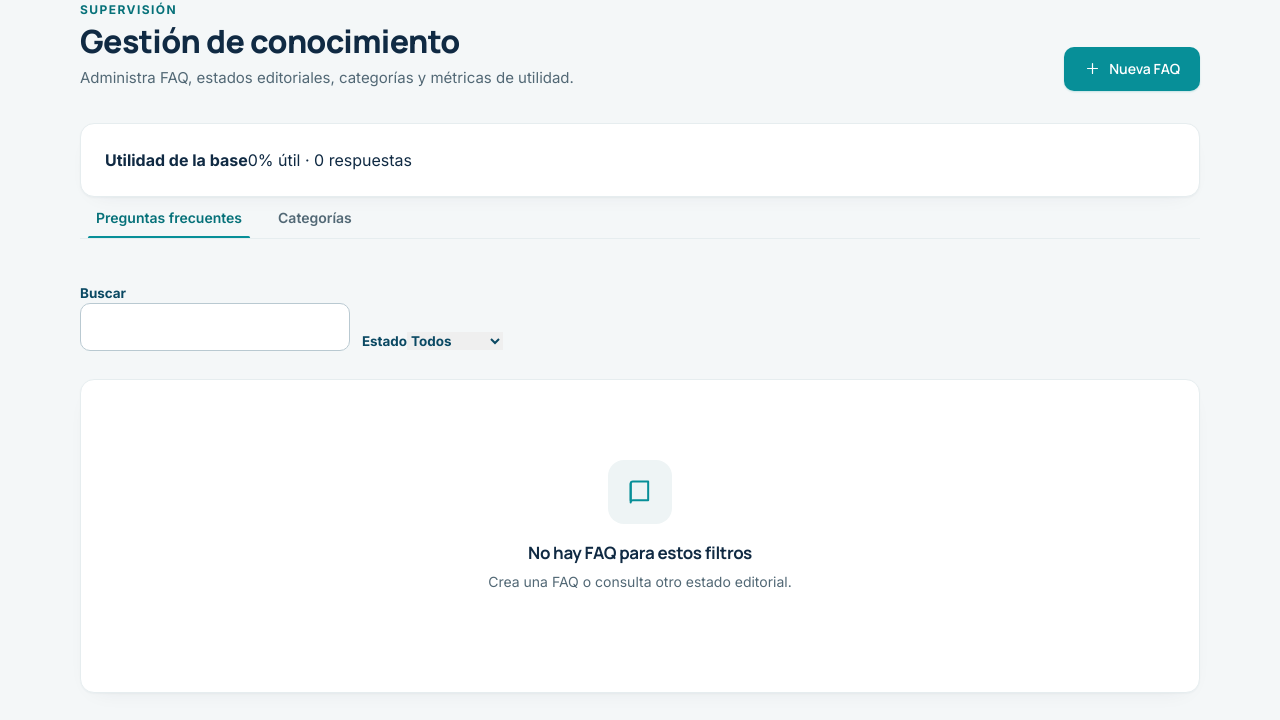
Test: gestión de conocimiento › exposes validation for a new FAQ without sending invalid data
Click the button "Nueva FAQ" at (1132,69), box top-left (1064, 47), bottom-right (1200, 91)
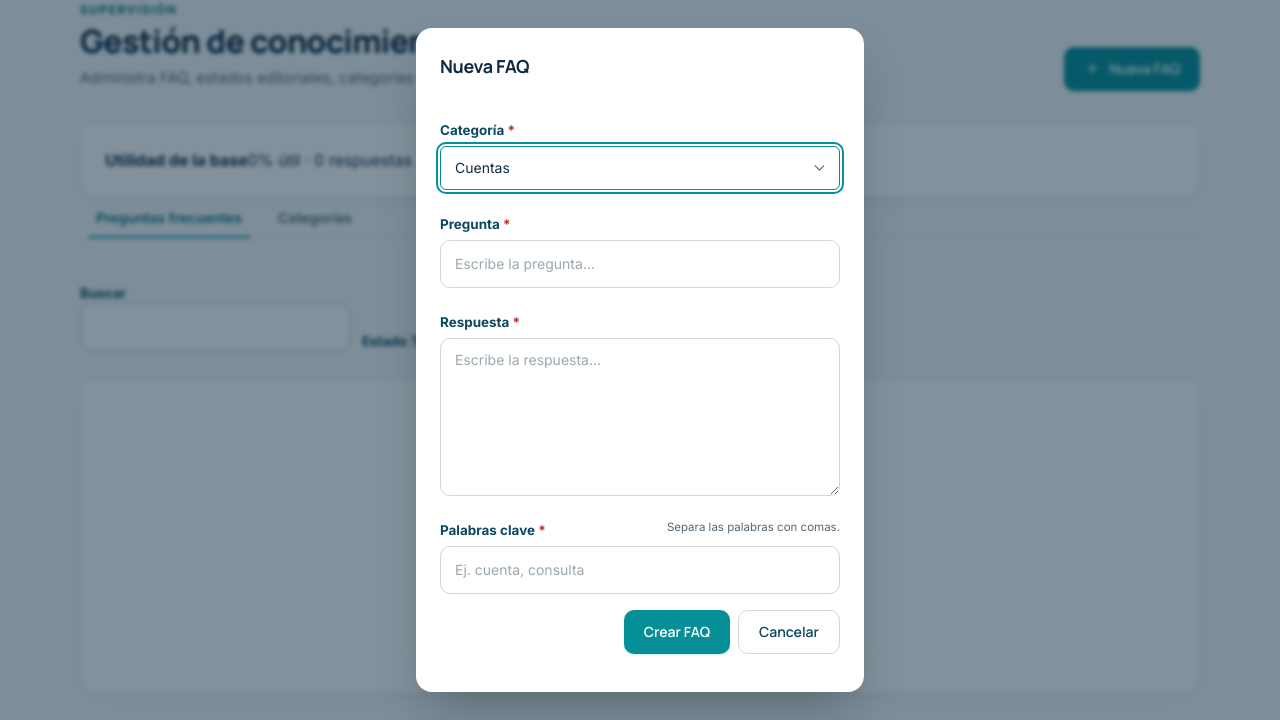
Click the button "Crear FAQ" at (677,632), box top-left (624, 610), bottom-right (730, 654)
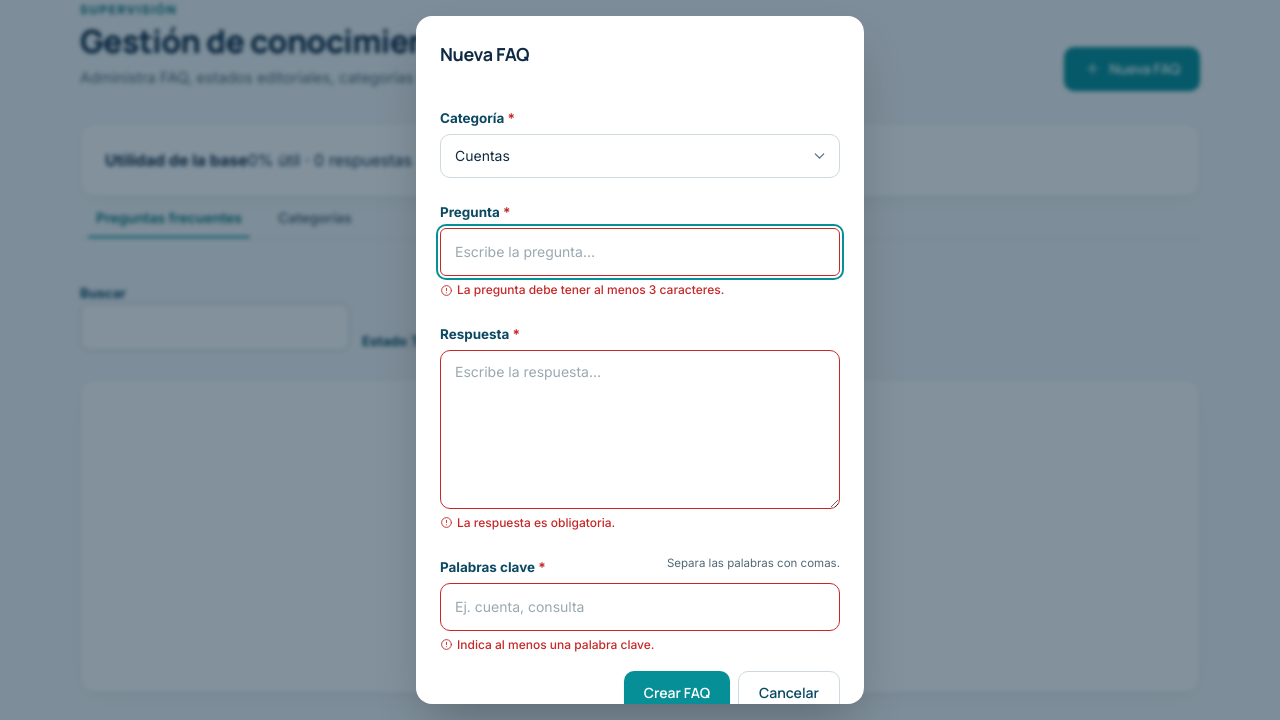
Now the text "La pregunta debe tener al menos 3 caracteres." is shown, box top-left (440, 282), bottom-right (724, 297)
